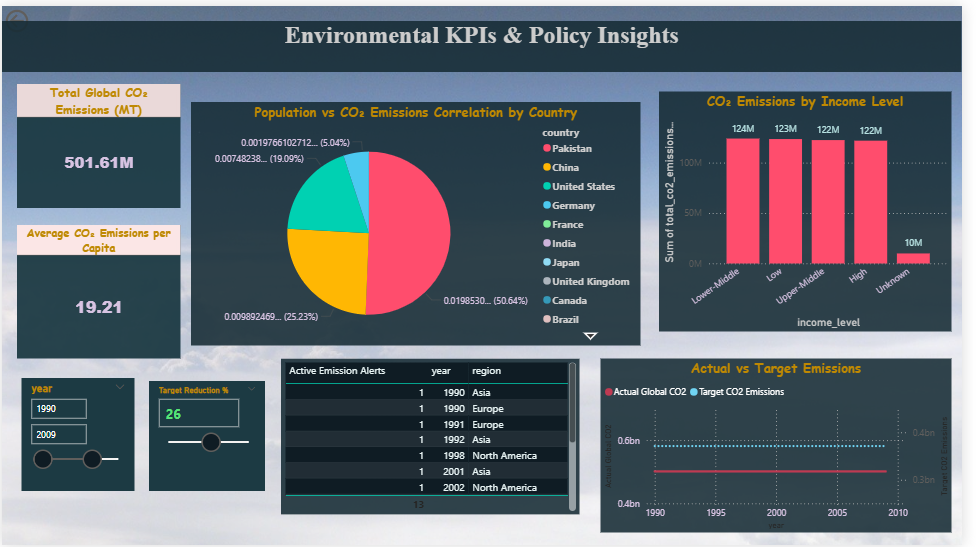

Layout of this report page (visuals, bound fields, positions):
{"tool":"powerbi","page":{"name":"Environmental KPI & Policy","canvas":[1280,720],"ordinal":2},"visuals":[{"type":"card","title":"Total Global CO₂ Emissions (MT)","fields":{"Values":["Sum(gold_income_level_emissions.total_co2_emissions_mt)"]},"box":[20.7,103.4,217.9,165.4],"z":0},{"type":"card","title":"Average CO₂ Emissions per Capita","fields":{"Values":["Avg(gold_income_level_emissions.avg_co2_per_capita)"]},"box":[20.7,291.1,217.9,178.1],"z":1000},{"type":"actionButton","box":[0,0,100,40],"z":2000},{"type":"columnChart","title":"CO₂ Emissions by Income Level","fields":{"Category":["gold_income_level_emissions.income_level"],"Y":["Sum(gold_income_level_emissions.total_co2_emissions_mt)"]},"box":[876,114,390,320],"z":3000},{"type":"pieChart","title":"Population vs CO₂ Emissions Correlation by Country","fields":{"Category":["gold_population_emissions_correlation.country"],"Y":["Sum(gold_population_emissions_correlation.population_co2_emissions_correlation)"]},"box":[252.9,128.8,599.7,324.5],"z":4000},{"type":"textbox","title":"Environmental KPIs & Policy Insights","box":[0,20.8,1279.4,68],"z":5000},{"type":"tableEx","fields":{"Values":["dlt_gold_emission_alerts.Active Emission Alerts","dlt_gold_emission_alerts.year","dlt_gold_emission_alerts.region"]},"box":[372,470,398,208],"z":5001},{"type":"slicer","fields":{"Values":["Target Reduction %.Target Reduction %"]},"box":[196,500,154,146],"z":5002},{"type":"lineChart","title":"Actual vs Target Emissions","fields":{"Category":["dlt_gold_emission_alerts.year"],"Y":["Target Reduction %.Actual Global CO2"],"Y2":["Target Reduction %.Target CO2 Emissions"]},"box":[798,470,468,232],"z":5003},{"type":"slicer","fields":{"Values":["dlt_gold_emission_alerts.year"]},"box":[26,496,150,150],"z":5004}]}

Visuals, with their boxes in screenshot pixels (x1, y1, x2, y2), scaled from the page's 1280x720 canvas onto the 976x547 screenshot:
"Total Global CO₂ Emissions (MT)" card: x1=16, y1=79, x2=182, y2=204
"Average CO₂ Emissions per Capita" card: x1=16, y1=221, x2=182, y2=356
actionButton: x1=0, y1=0, x2=76, y2=30
"CO₂ Emissions by Income Level" columnChart: x1=668, y1=87, x2=965, y2=330
"Population vs CO₂ Emissions Correlation by Country" pieChart: x1=193, y1=98, x2=650, y2=344
"Environmental KPIs & Policy Insights" textbox: x1=0, y1=16, x2=975, y2=67
tableEx - dlt_gold_emission_alerts.Active Emission Alerts x dlt_gold_emission_alerts.year: x1=284, y1=357, x2=587, y2=515
slicer - Target Reduction %.Target Reduction %: x1=149, y1=380, x2=267, y2=491
"Actual vs Target Emissions" lineChart: x1=608, y1=357, x2=965, y2=533
slicer - dlt_gold_emission_alerts.year: x1=20, y1=377, x2=134, y2=491
